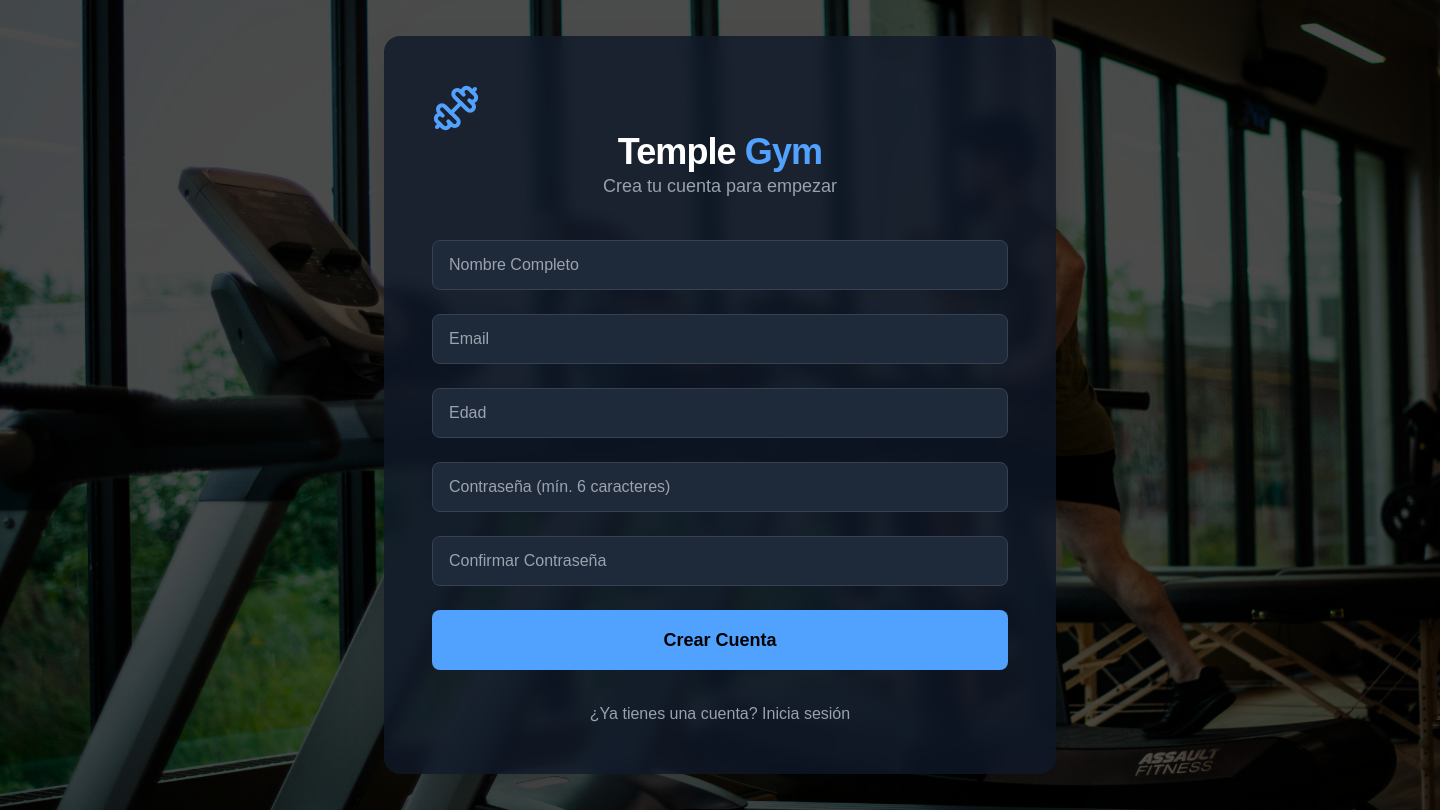
RegisterForm › Validation Logic › should show error when age is below 1
In the field with placeholder "Nombre Completo": [720, 265] box x1=432 y1=240 x2=1008 y2=290, type "John Doe"
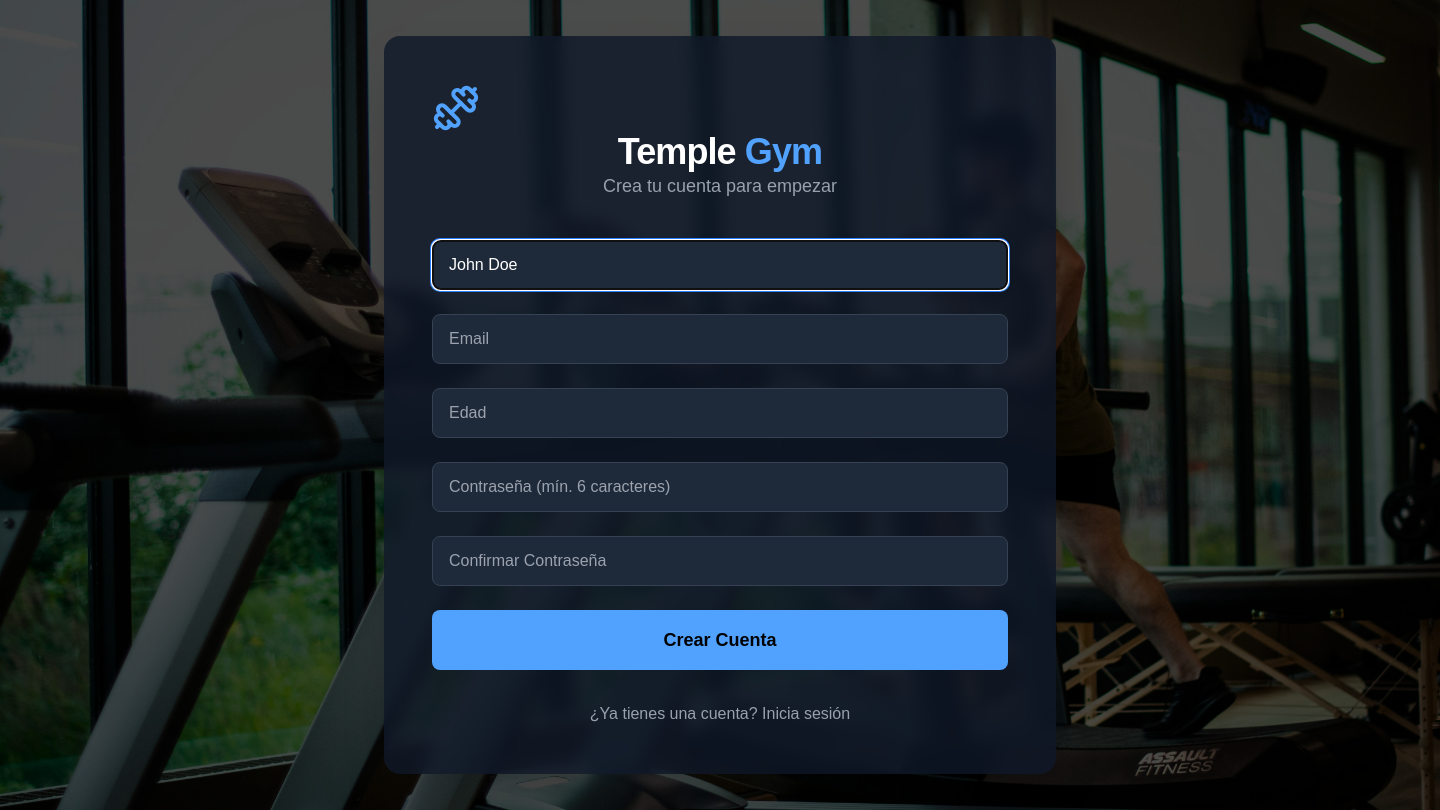
In the field with placeholder "Email": [720, 339] box x1=432 y1=314 x2=1008 y2=364, type "john@example.com"
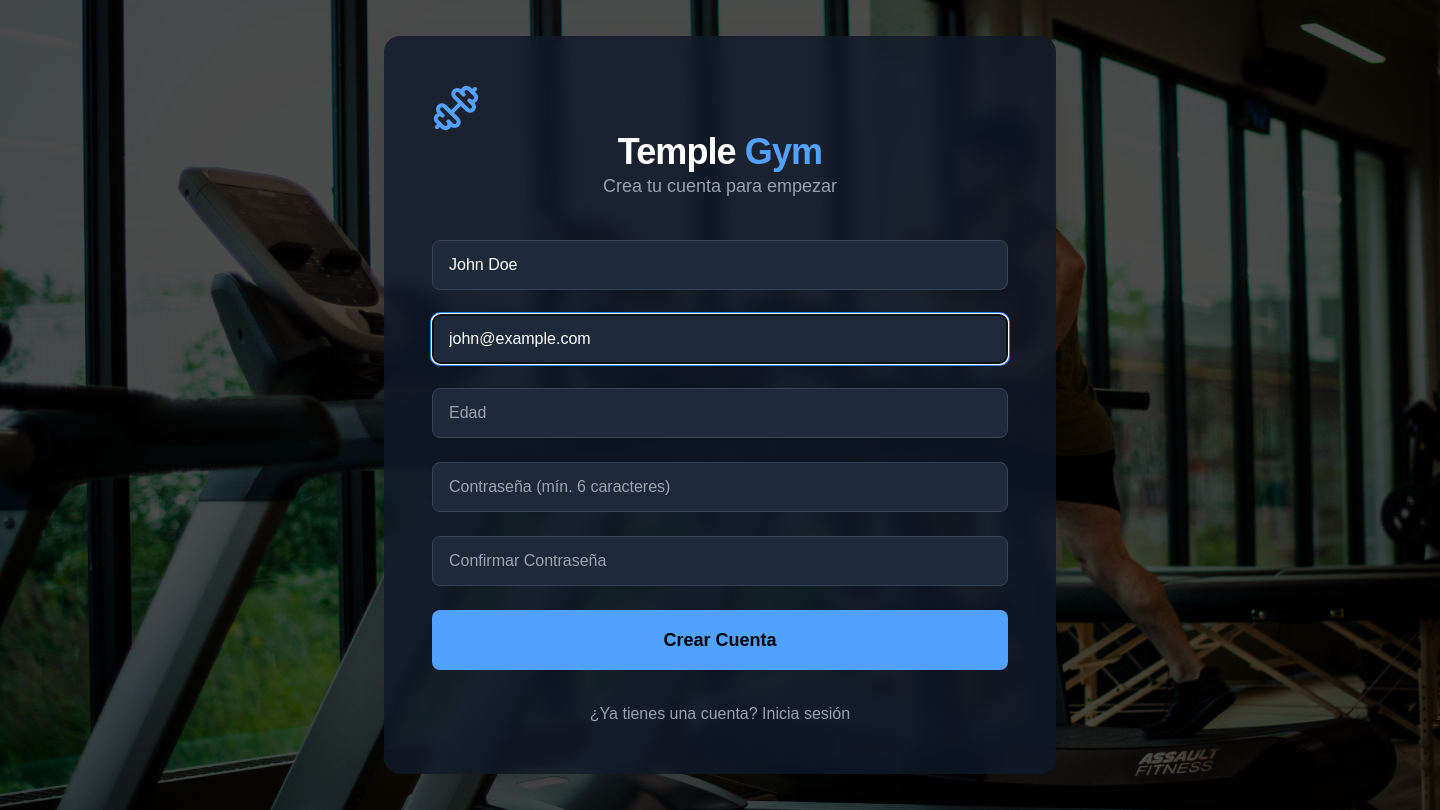
In the number field with placeholder "Edad": [720, 413] box x1=432 y1=388 x2=1008 y2=438, type "0"
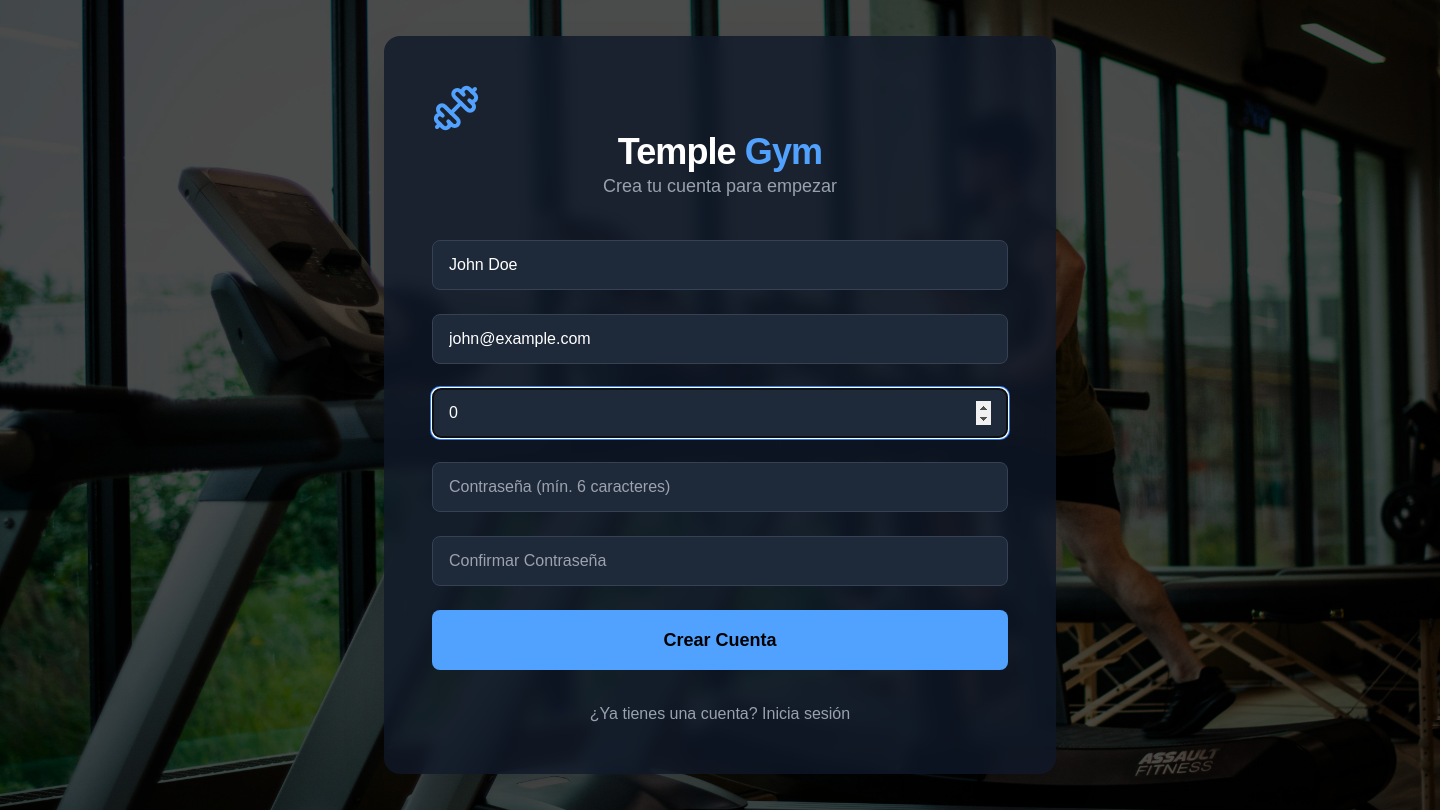
In the password field with placeholder "Contraseña (mín. 6 caracteres)": [720, 487] box x1=432 y1=462 x2=1008 y2=512, type "password123"
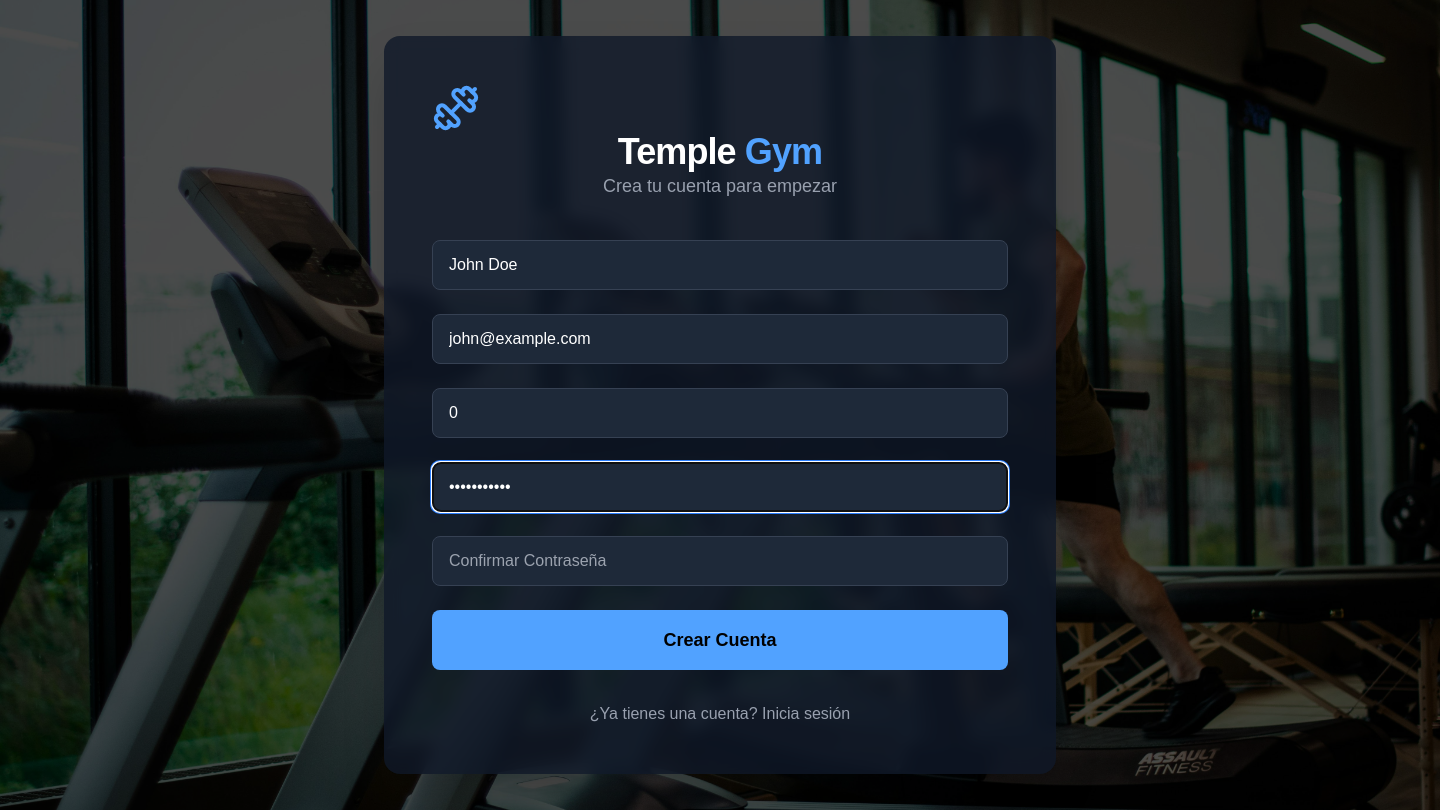
In the password field with placeholder "Confirmar Contraseña": [720, 561] box x1=432 y1=536 x2=1008 y2=586, type "password123"
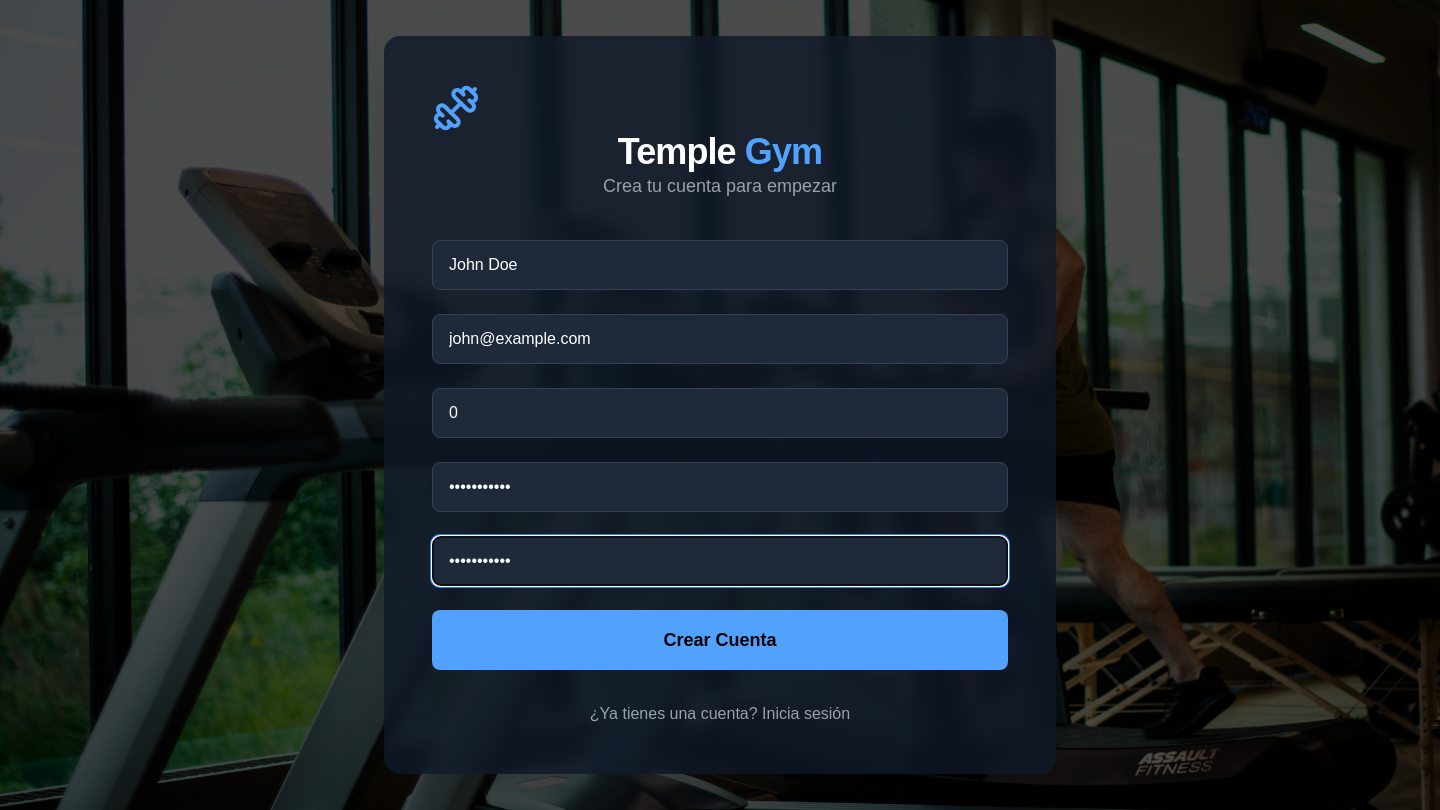
Click the button "Crear Cuenta": [720, 640] box x1=432 y1=610 x2=1008 y2=670
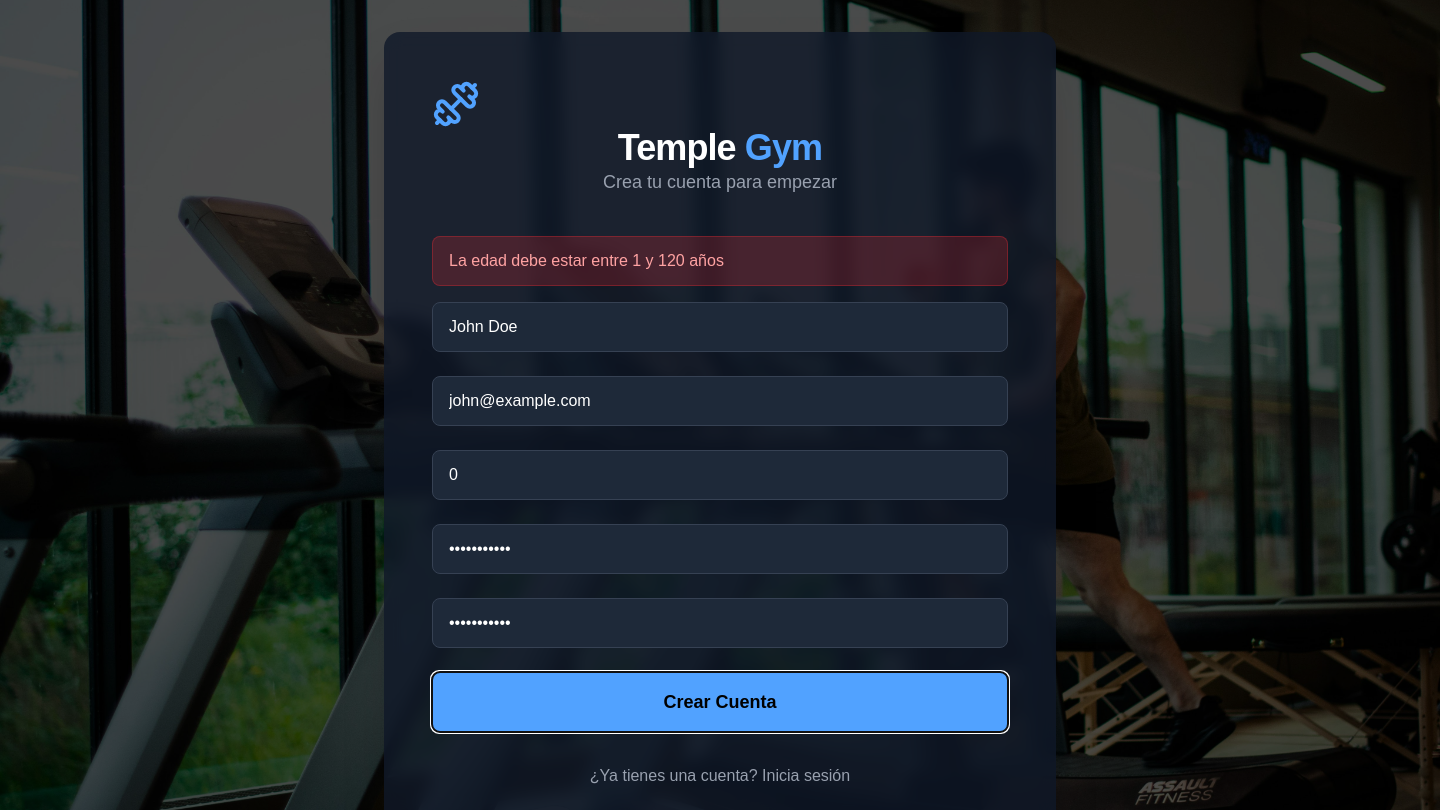
Check: the text "La edad debe estar entre 1 y 120 años" is shown, box x1=432 y1=236 x2=1008 y2=286
